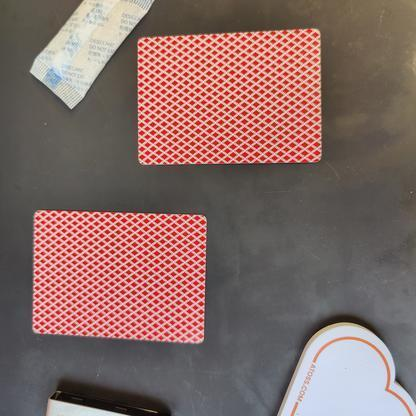card: (122, 20, 335, 178), (17, 200, 218, 354)
